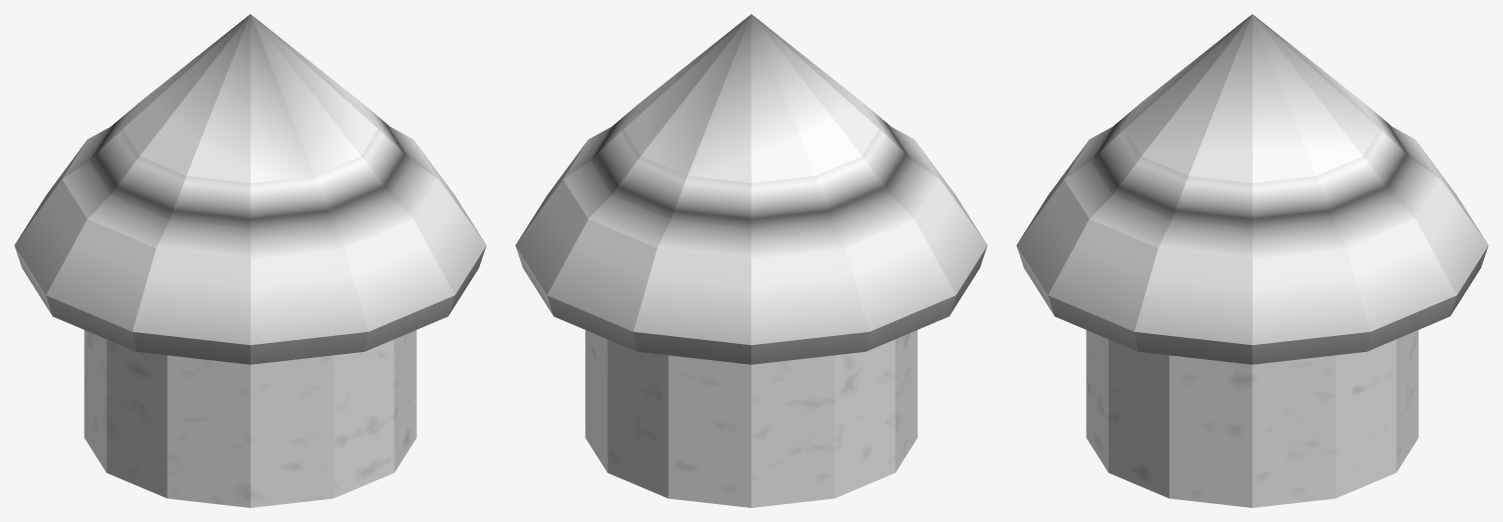
Rendered from HutA.fbx.
3 renders of one model, left to right at view 1: azimuth 30°, elevation 25°; view 2: azimuth 150°, elevation 25°; view 3: azimuth 270°, elevation 25°, orthographic.
Visible parts, largest first — view 1: Hut; view 2: Hut; view 3: Hut.
Part boxes in pixels (x1,y1,x2,y2): Hut: (14, 14, 486, 507); Hut: (515, 14, 987, 507); Hut: (1016, 14, 1488, 507).
Size of the model in its own units: 1077 by 1066 by 1077.
